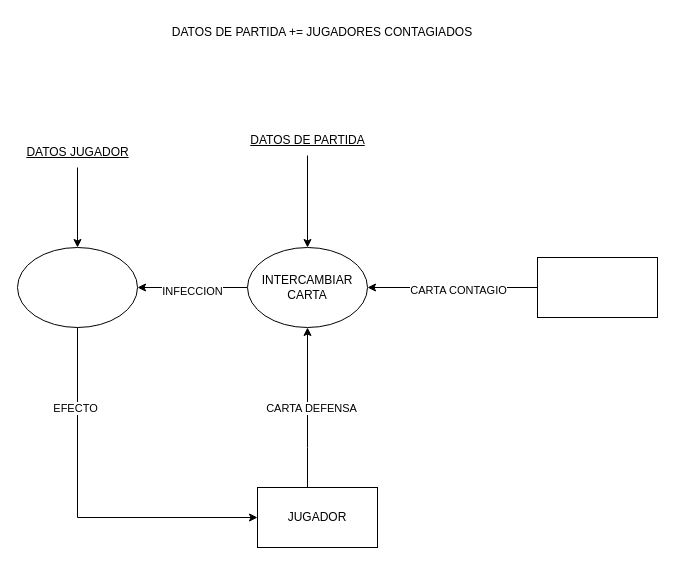
The diagram is 675 pixels wide and 565 high, and some of its shapes have lost their labels. Here are the shapes that lost their labels. From the top down, the centre of each, then its label:
At (77,287): "APLICAR EFECTO".
At (597,287): "LA COSA".
